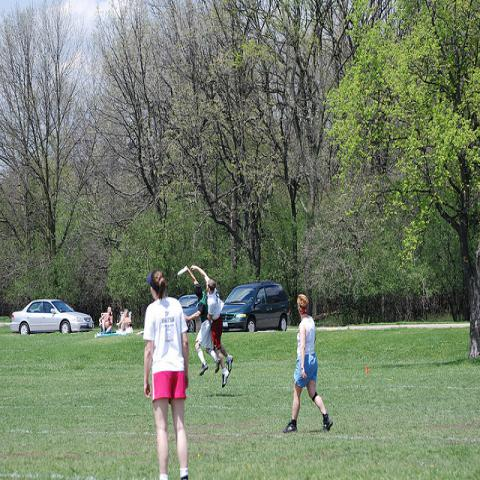car: (221, 284, 290, 333), (10, 299, 94, 335), (178, 295, 224, 332)
